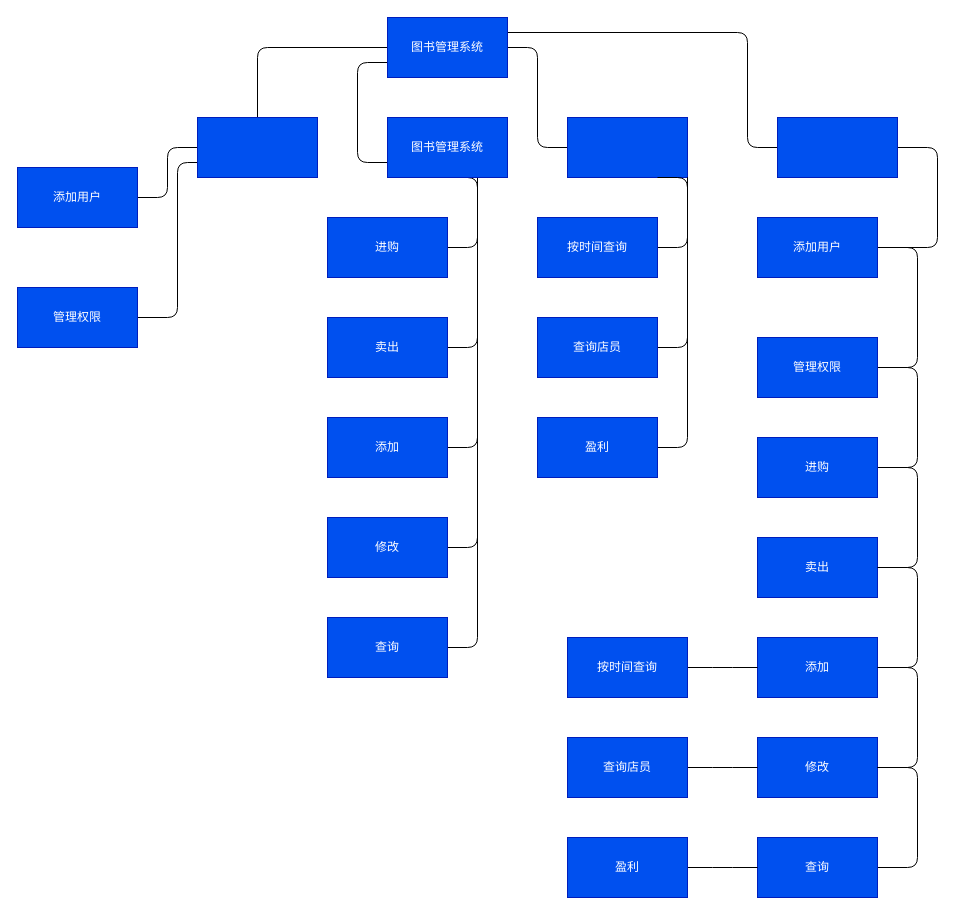
This 956x915 diagram has some shape labels left out. The shapes that lost their labels are listed below. From the top down, each one's box as (x1, y1, x2, y2) in pixels, then its label:
(196, 116, 318, 178): 账户管理子系统
(566, 116, 688, 178): 操作管理系统
(776, 116, 898, 178): 外部交互系统
